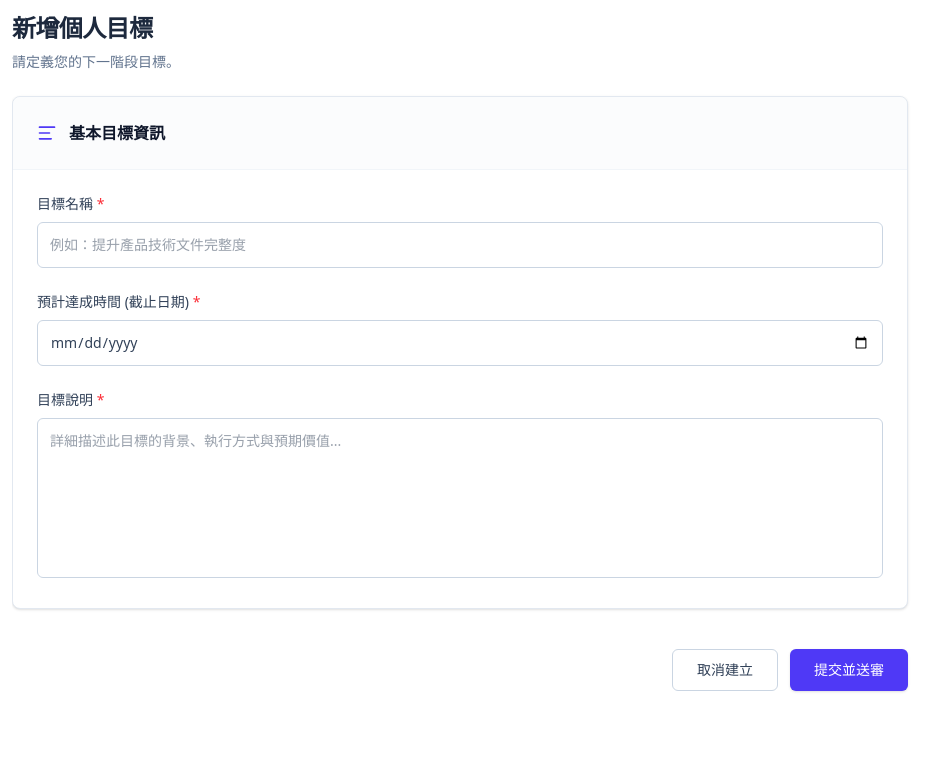
Test: NewGoal › does not open the confirmation modal when required fields are missing
The width and height of the screenshot is (925, 771).
Click the button "提交並送審" at (849, 670), box [790, 649, 908, 691]
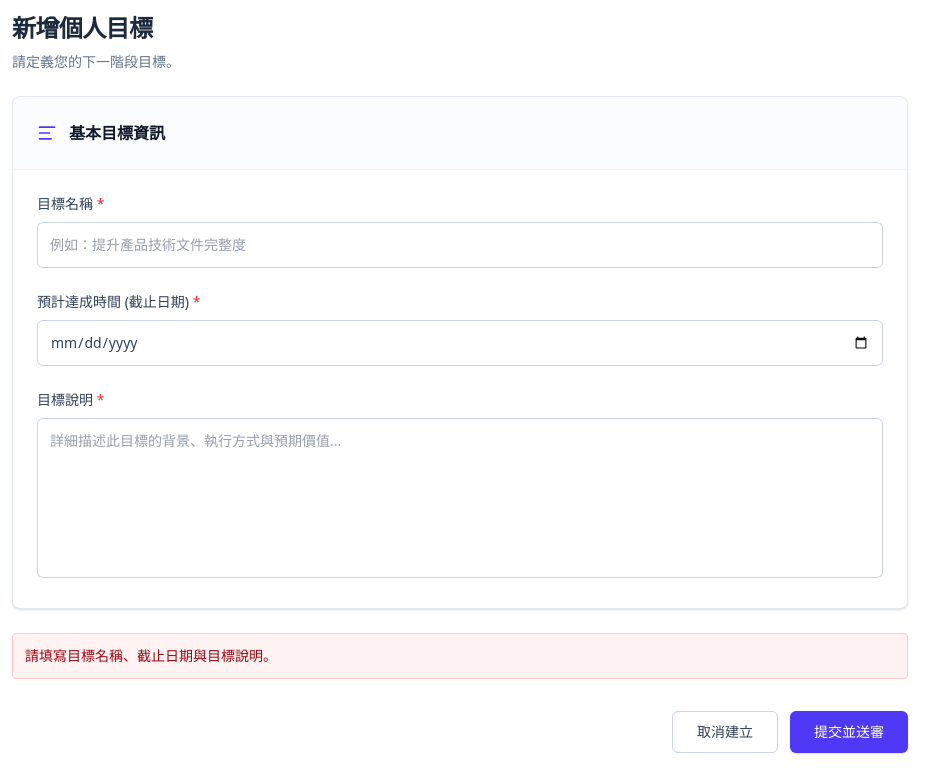
Now the text "請填寫目標名稱、截止日期與目標說明。" is shown, box [12, 633, 908, 679]
